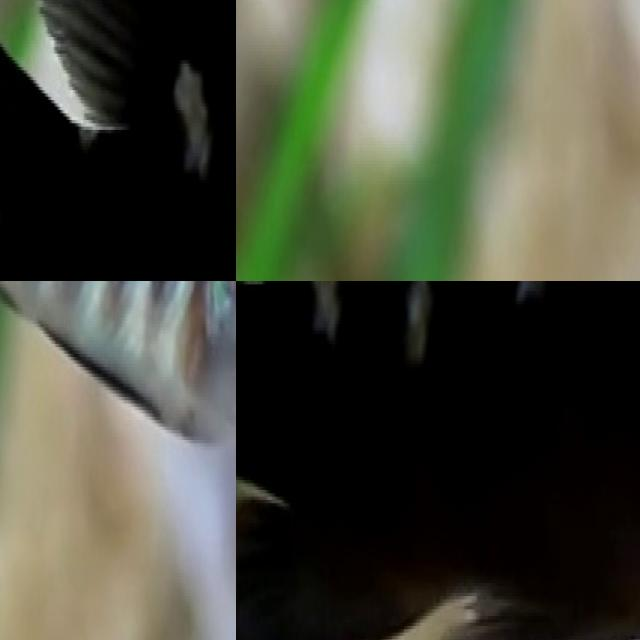fish: (236, 281, 640, 640), (0, 0, 236, 281), (0, 281, 236, 456)
